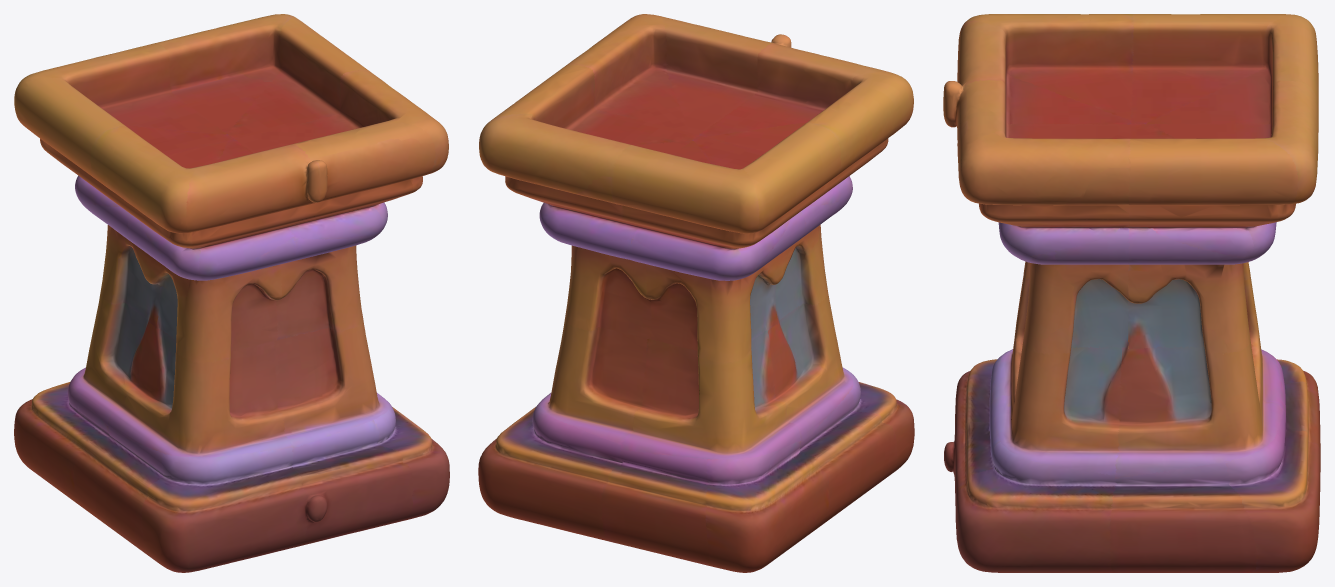
File: statue_pedestal.glb
3 renders of one model, left to right at view 1: azimuth 30°, elevation 25°; view 2: azimuth 150°, elevation 25°; view 3: azimuth 270°, elevation 25°, orthographic. The views are drawn at different scales.
Visible parts, largest first — view 1: tripo_node_5569db85-dd84-41cd-b0ad-6042e43e229c; view 2: tripo_node_5569db85-dd84-41cd-b0ad-6042e43e229c; view 3: tripo_node_5569db85-dd84-41cd-b0ad-6042e43e229c.
Part boxes in pixels (x1=…): tripo_node_5569db85-dd84-41cd-b0ad-6042e43e229c: x1=14, y1=14, x2=449, y2=572; tripo_node_5569db85-dd84-41cd-b0ad-6042e43e229c: x1=478, y1=14, x2=914, y2=572; tripo_node_5569db85-dd84-41cd-b0ad-6042e43e229c: x1=943, y1=14, x2=1320, y2=572.
Bounding box in the file's own units: 0.6882 × 0.9494 × 0.7155.
Materials: 1 (1 with a texture image).
